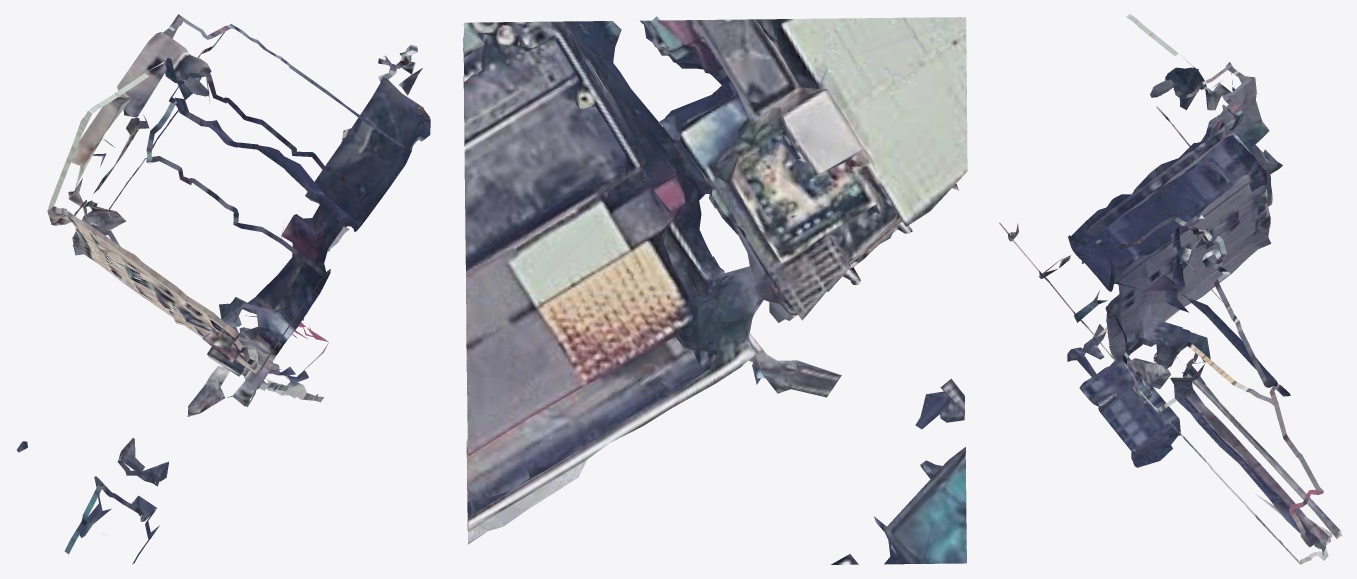
The picture shows the model from 3 angles, left to right: view 1: azimuth 30°, elevation 25°; view 2: azimuth 150°, elevation 25°; view 3: azimuth 270°, elevation 25°; orthographic projection. The views are drawn at different scales.
Size of the model in its own units: 38.65 by 43.69 by 31.16.
2 materials, 2 textured.
